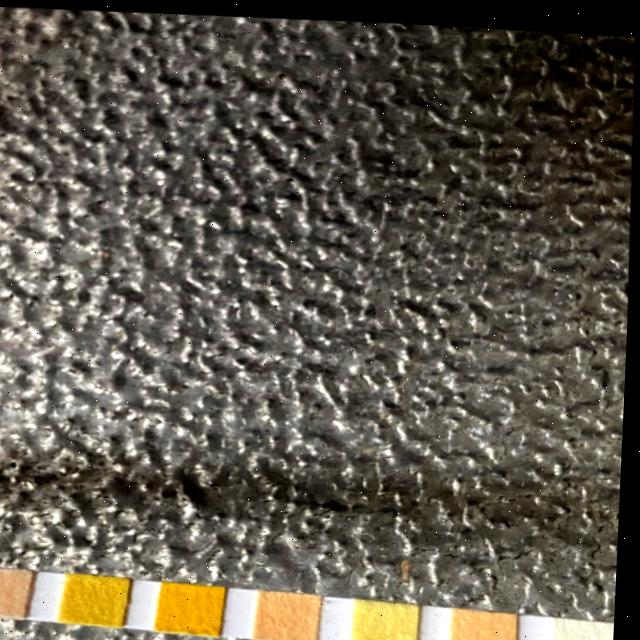Blood: (166, 579, 223, 631)
Ketone: (0, 565, 28, 616)
Nitrite: (555, 610, 620, 640)
Protein: (356, 595, 422, 640)
SpGravity: (71, 571, 128, 622)
Urobilinogen: (454, 603, 520, 640)
pH: (263, 586, 320, 638)
